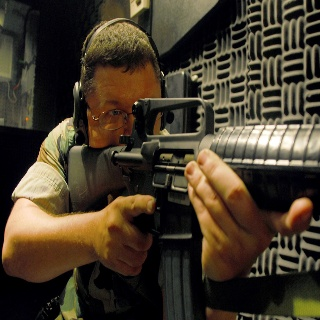rifle: (65, 94, 320, 320)
